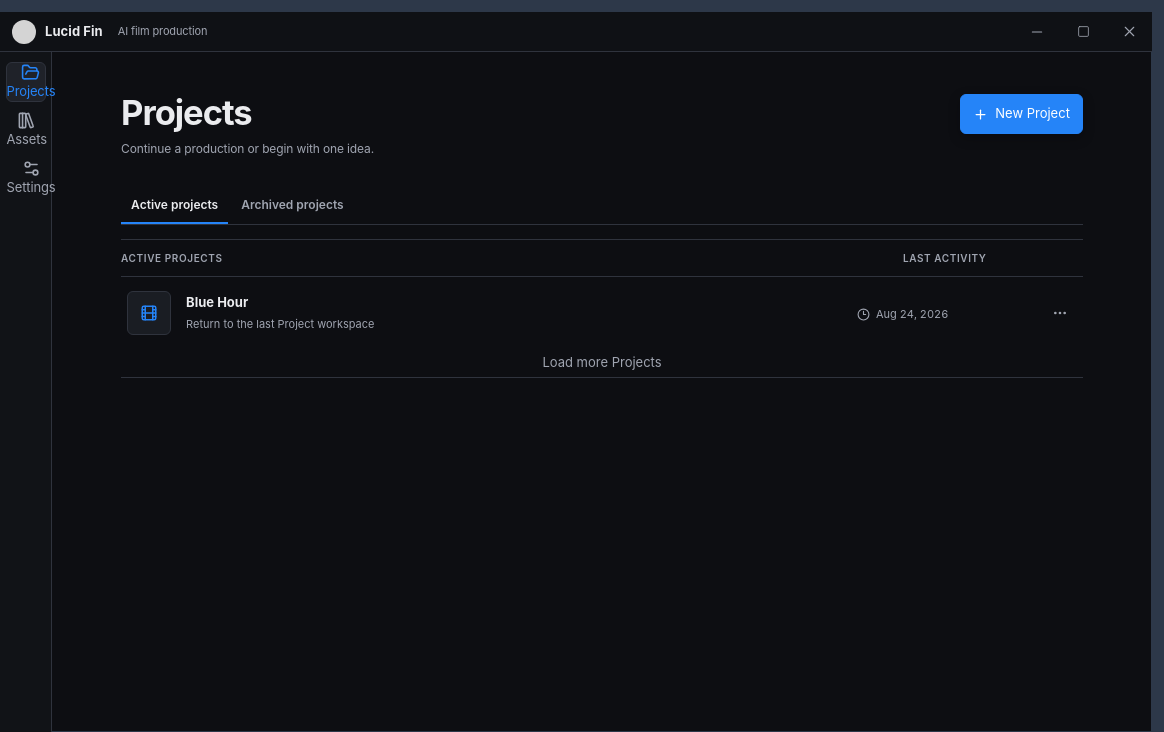
Test: Project Home and Global Media › loads additional Project pages instead of hiding them after the initial list
The width and height of the screenshot is (1164, 732).
Expected: the button with aria-label "Open Blue Hour" is shown, [121,277,1043,348]
Click the button "Load more Projects". click: (602, 363)
box: [121,348,1083,378]
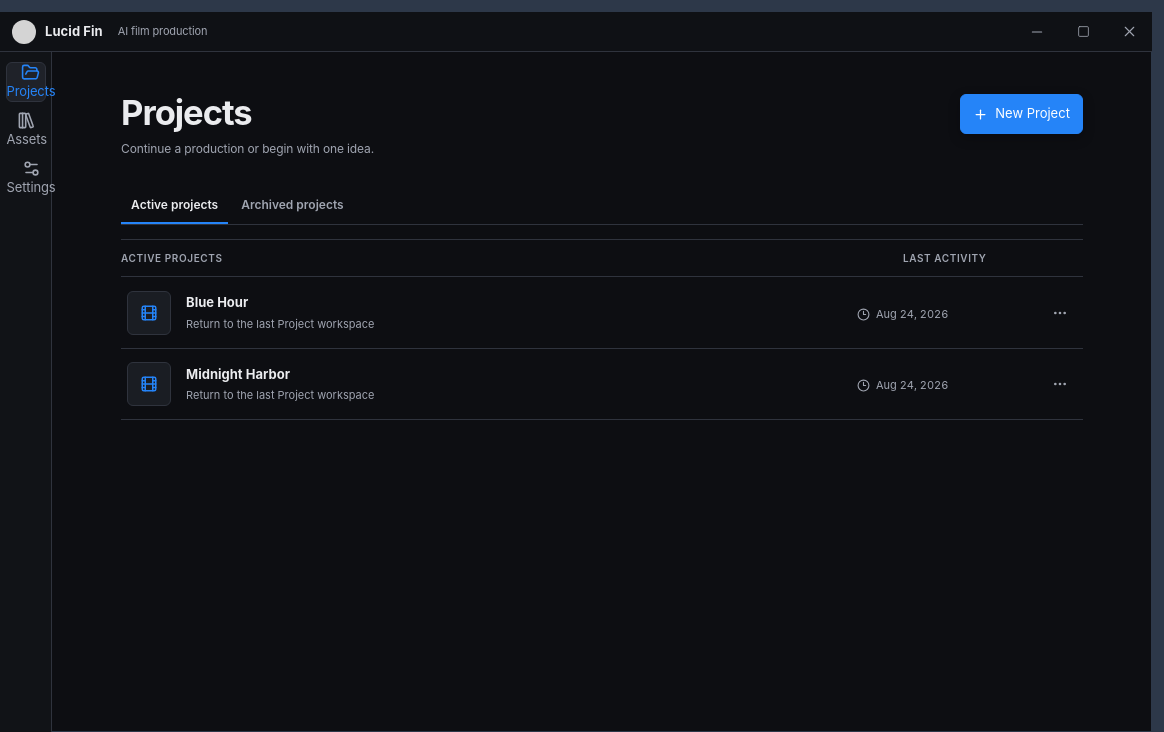
Expected: the button with aria-label "Open Midnight Harbor" is shown, [121,349,1043,419]
